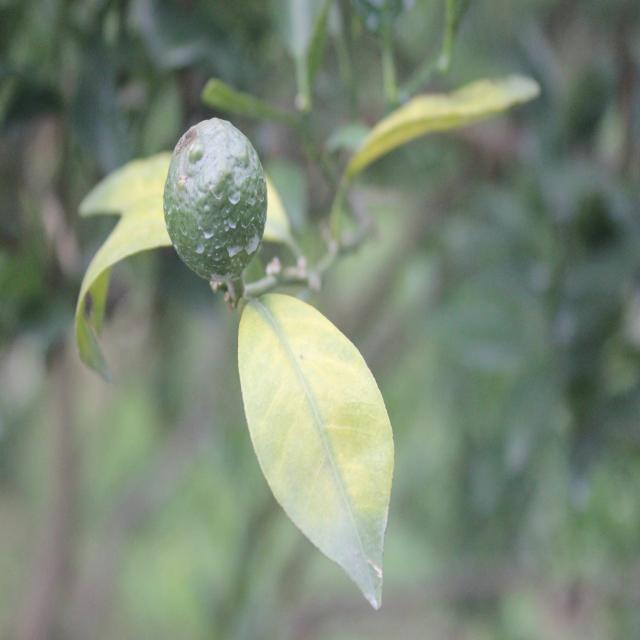greening: (244, 302, 384, 564), (342, 74, 515, 184)
